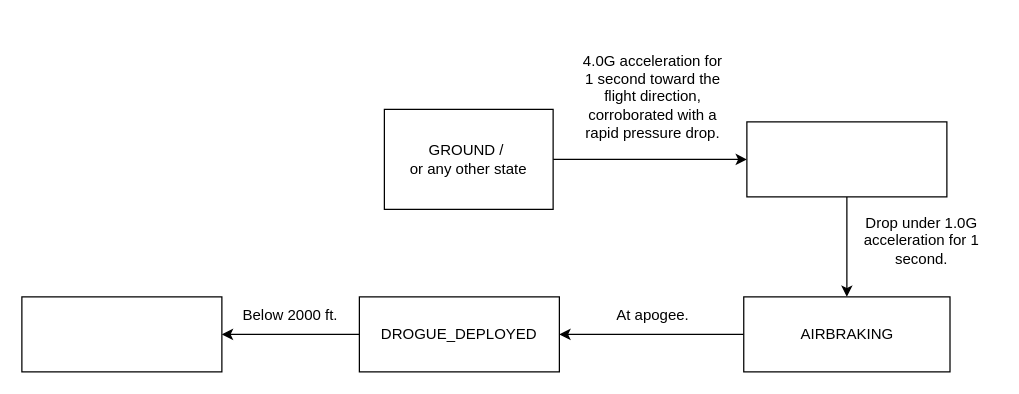
Image size: 1019x394. Some labels were removed from this diagram. The shapes that lost their labels are listed below. From the top down, each one's centre as x and y in pixels, then its label:
At (x=846, y=159): "MOTOR_BURNING".
At (x=121, y=334): "MAIN_DEPLOYED".
